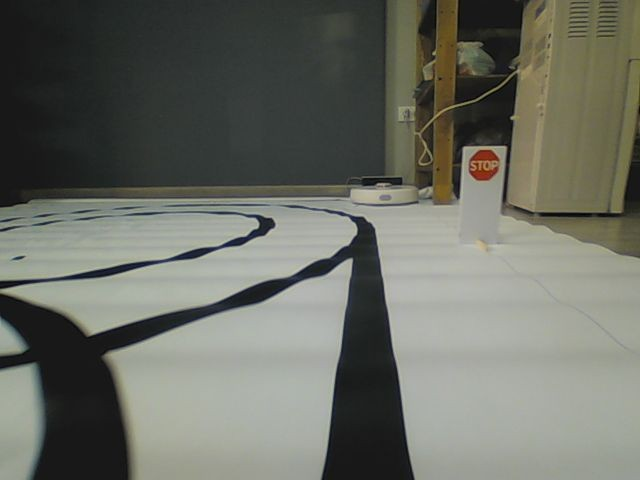Stop: (466, 148, 500, 183)
